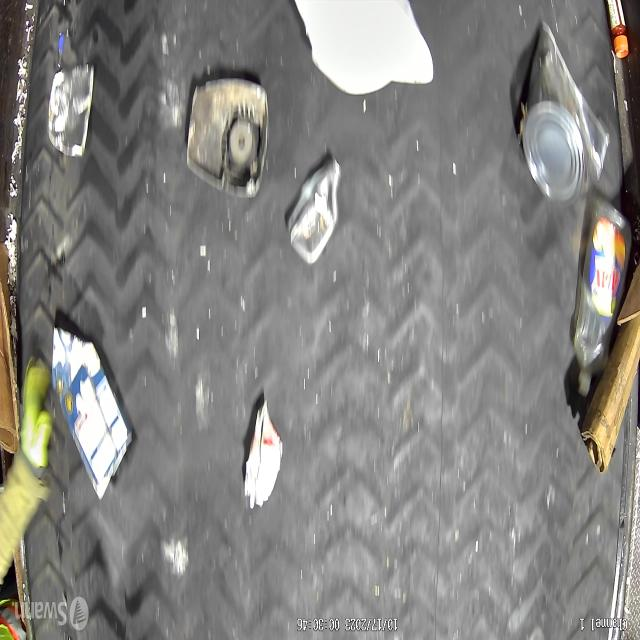can: (522, 22, 610, 208), (48, 64, 94, 156)
milk_jug: (291, 0, 434, 97)
non_white_jug: (51, 325, 132, 501), (287, 157, 343, 264)
plastic_bottle: (574, 198, 632, 396)
